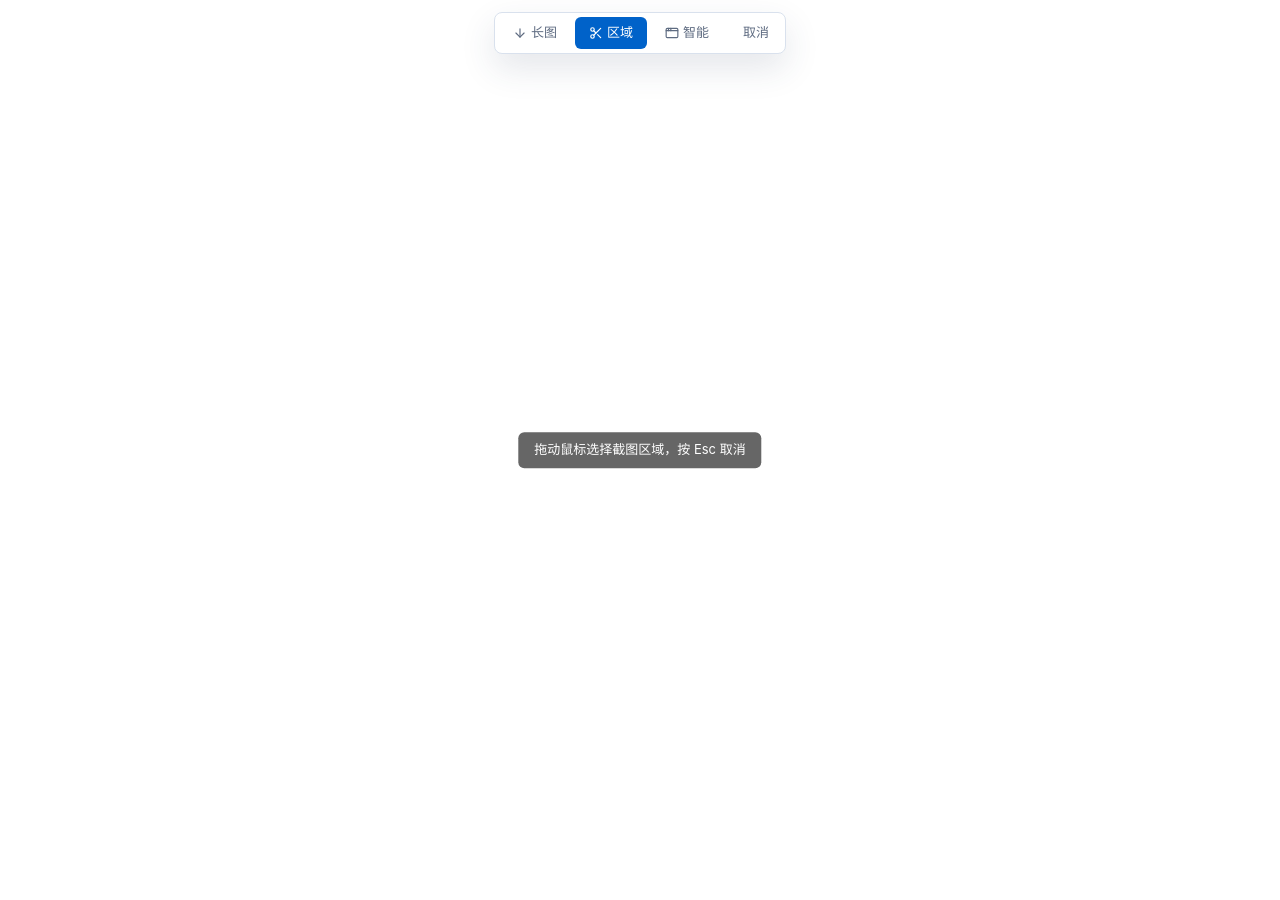
Test: ScreenshotTool 标注流程 › 复制到剪贴板失败时显示错误提示，且不退出标注态
Press the mouse on the element with class "ss-overlay": (640, 450) [494,12,786,468]
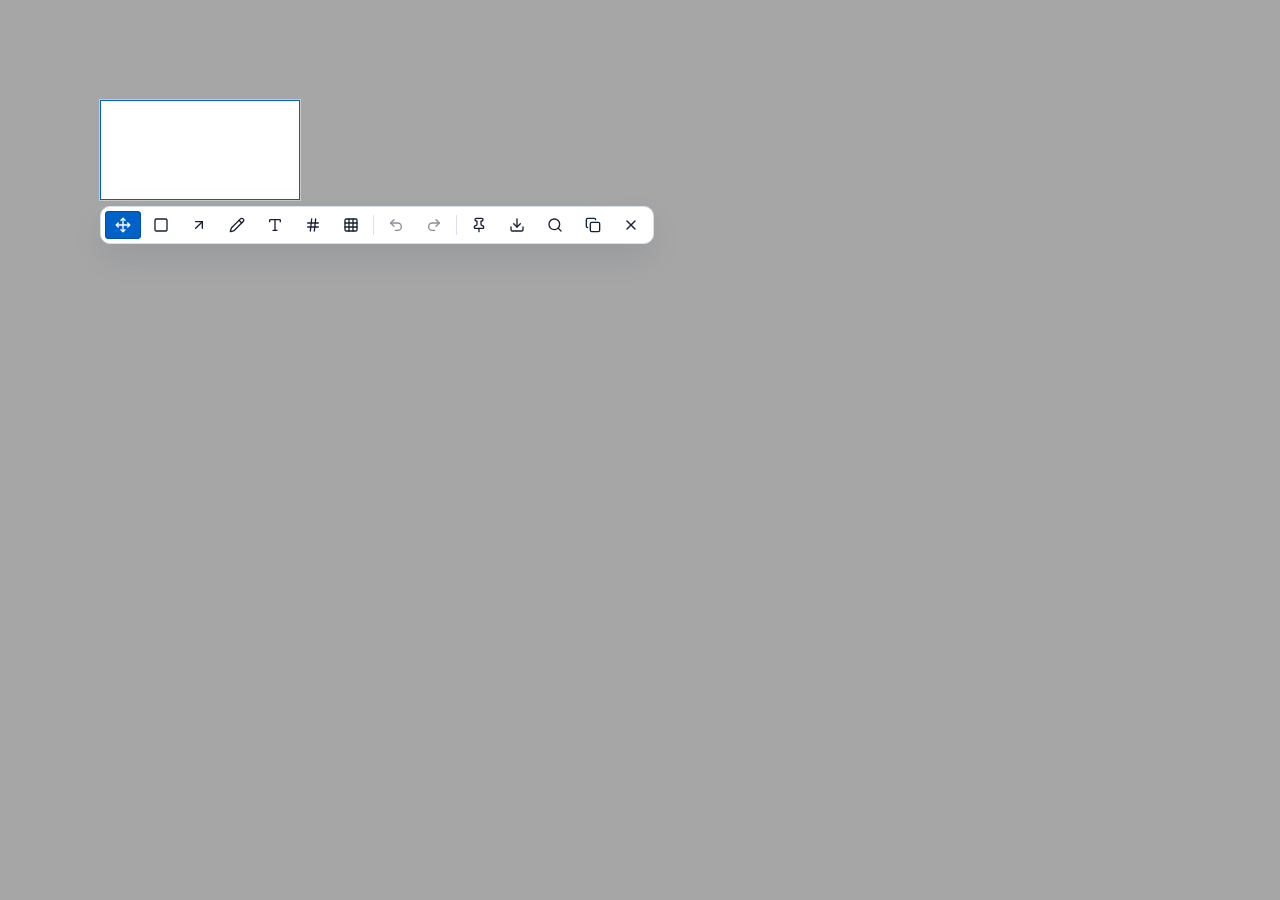
Click the button named "复制": (593, 225) [575,211,611,239]
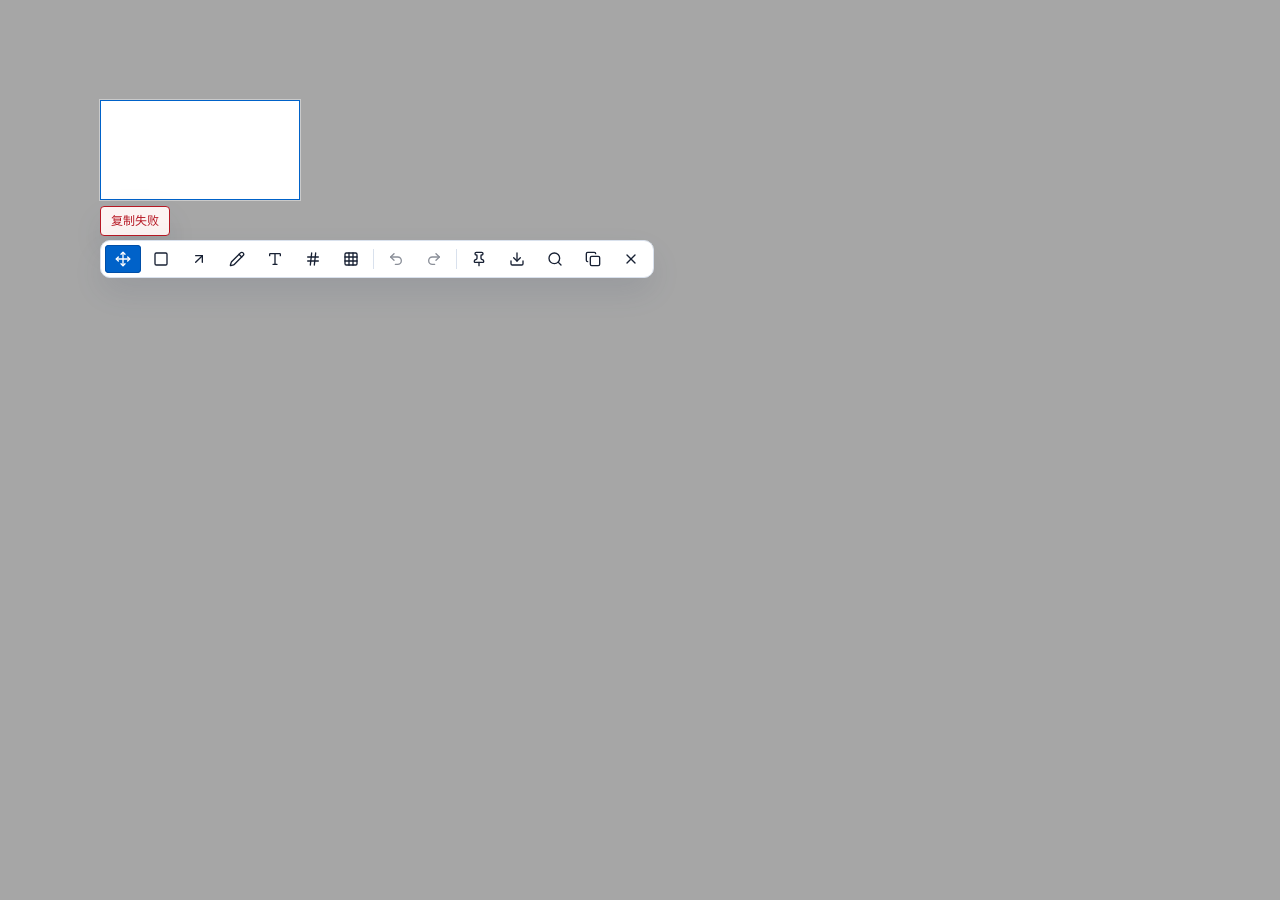
Check: the element with class "ss-annotate-toolbar" is shown, box [100,240,654,278]
Check: the text "复制失败" is shown, box [100,206,170,236]
